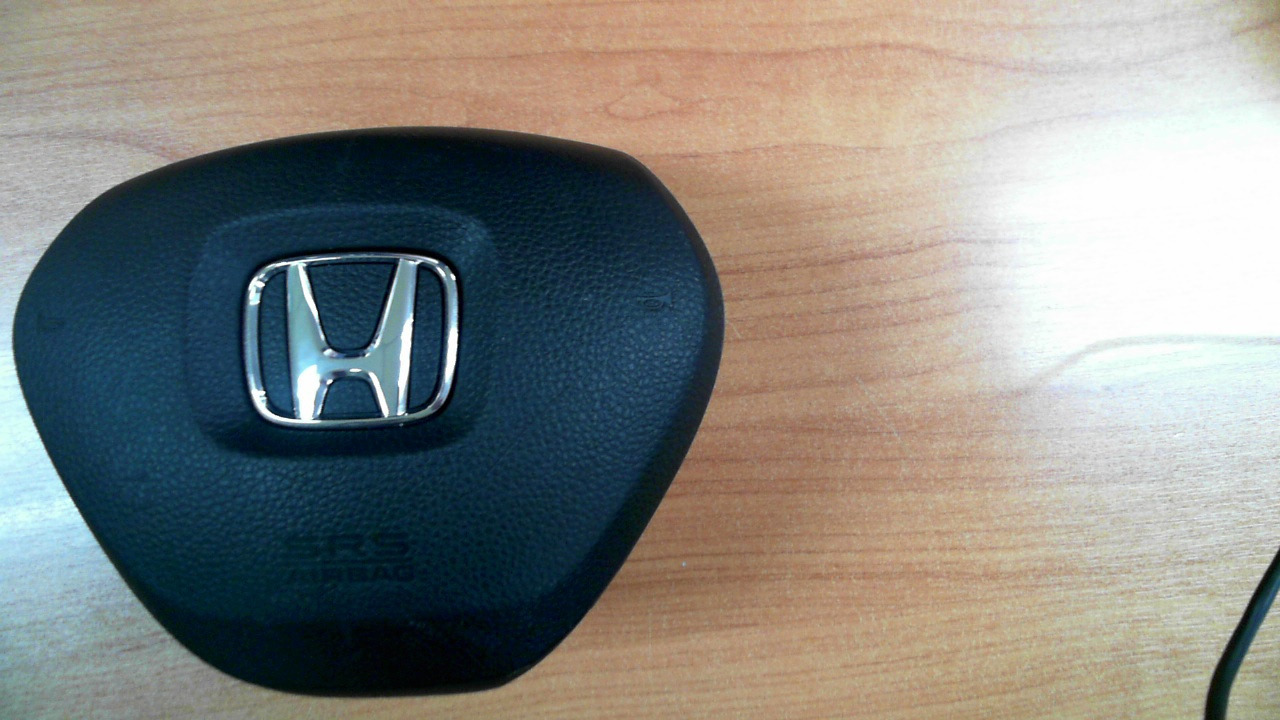Airbag: (11, 125, 725, 700)
Honda: (243, 253, 459, 424)
